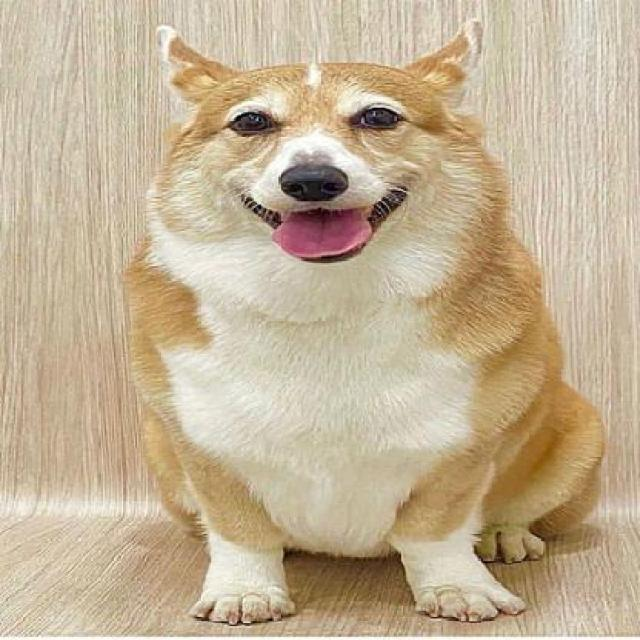Dog: (118, 14, 610, 629)
